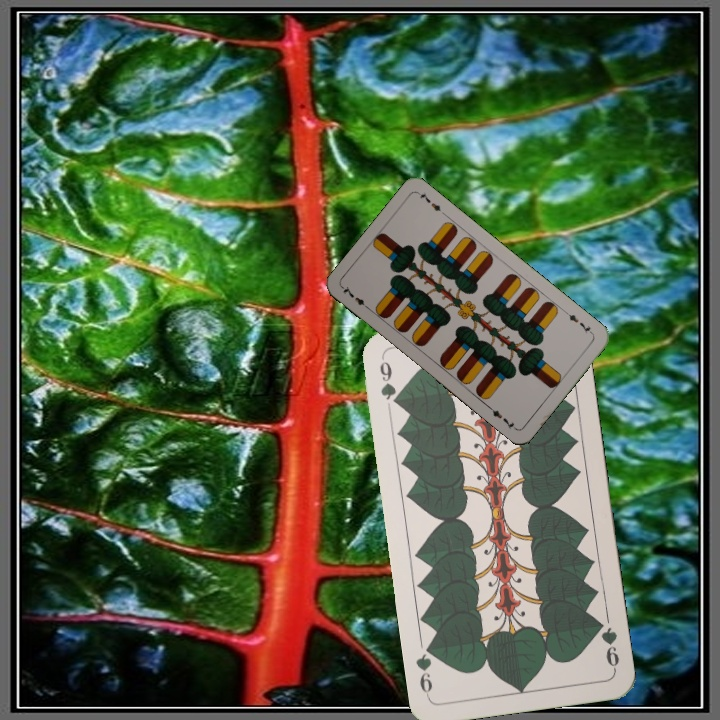E7: (338, 282, 373, 313), (561, 307, 596, 337)
G9: (592, 616, 622, 673), (375, 353, 402, 409)
